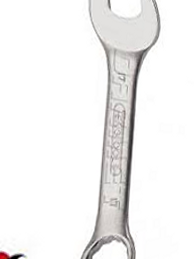wrench: (68, 1, 154, 259)
